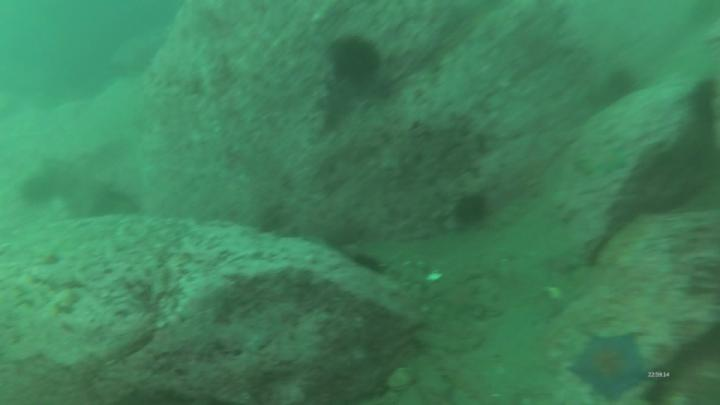echinus: (330, 40, 378, 84), (457, 197, 481, 225)
holothurian: (438, 355, 494, 405), (415, 324, 479, 357)
scallop: (390, 368, 415, 392)
starfish: (571, 335, 651, 399)
